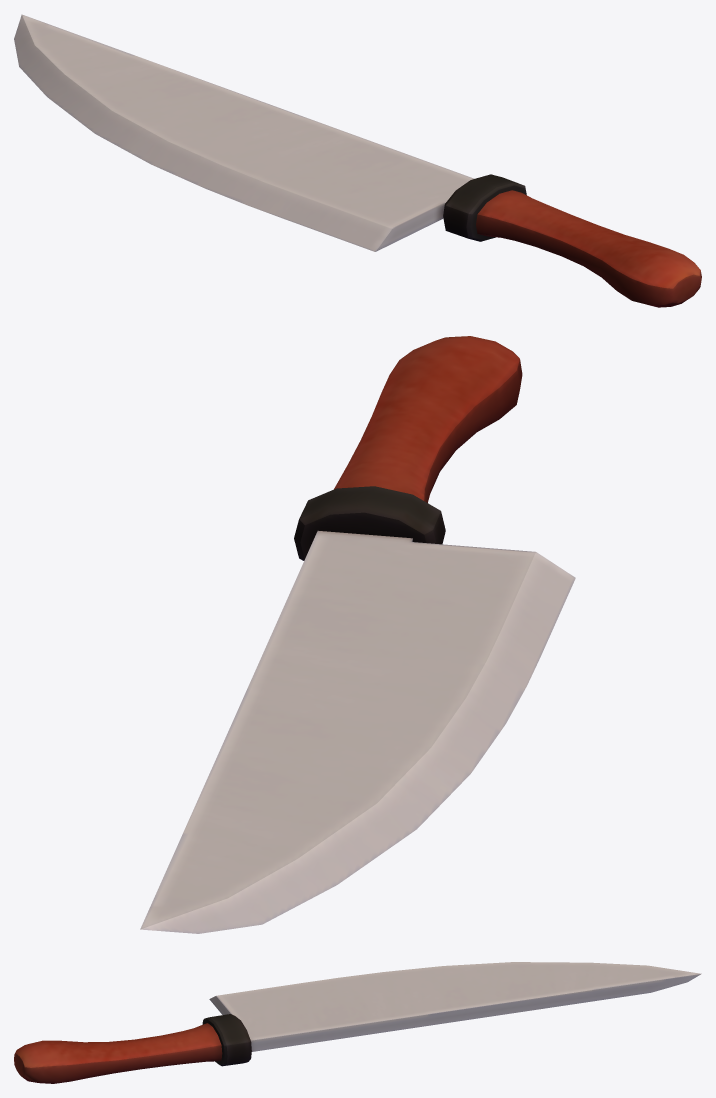
Rendered from Knife.fbx.
3 views of the same model, one above another, from view 1: azimuth 30°, elevation 25°; view 2: azimuth 150°, elevation 25°; view 3: azimuth 270°, elevation 25° (orthographic). The views are drawn at different scales.
Parts seen in each view (by area): view 1: Knife; view 2: Knife; view 3: Knife.
Boxes of the visible parts, bbox=[...] form: Knife: bbox=[14, 14, 701, 307]; Knife: bbox=[140, 336, 575, 933]; Knife: bbox=[14, 962, 701, 1083].
Size of the model in its own units: 55.28 by 8.79 by 140.
